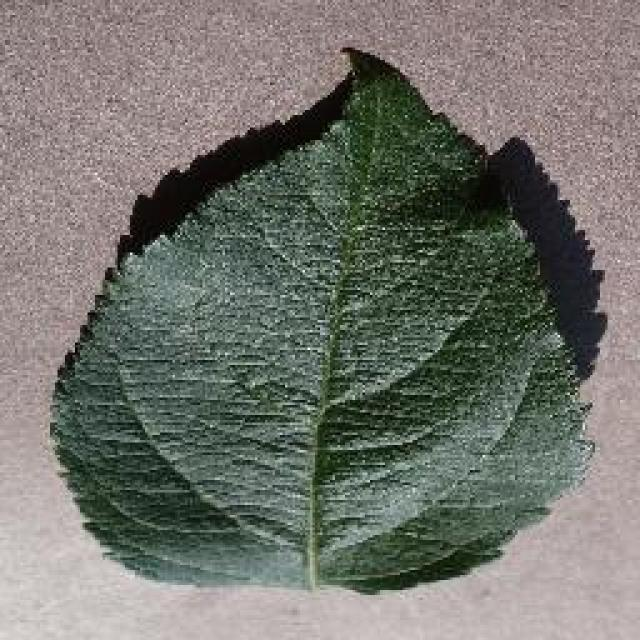apple healthy: (45, 43, 605, 595)
